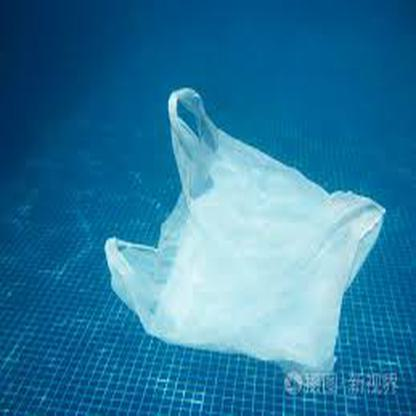plastic bag: (101, 88, 386, 379)
